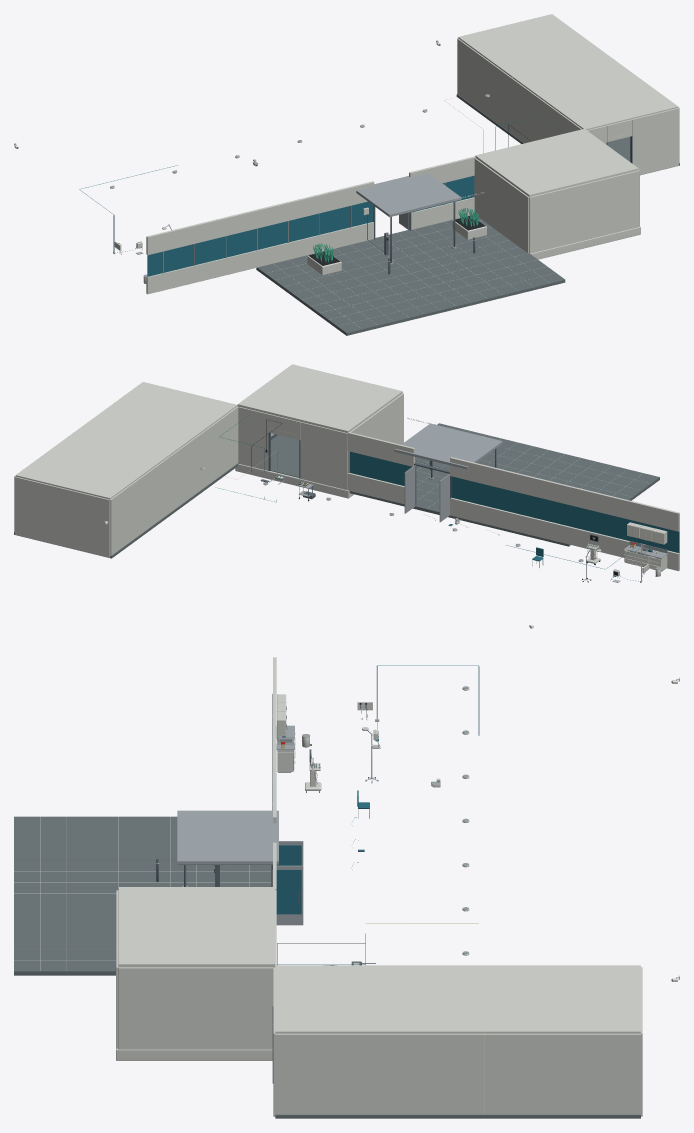
File: hospital-services.glb
3 renders of one model, top to bottom at view 1: azimuth 30°, elevation 25°; view 2: azimuth 150°, elevation 25°; view 3: azimuth 270°, elevation 25°, orthographic. The views are drawn at different scales.
Visible parts, largest first — view 1: Architecture__service-ivory, Architecture__service-floor, Ceiling__service-ivory, Architecture__service-blue, Architecture__service-metal, Exterior-context__service-ivory, Exterior-context__service-green; view 2: Architecture__service-ivory, Ceiling__service-ivory, Architecture__service-floor, Architecture__service-blue, Architecture__service-metal, Clinical-context__service-paper, Clinical-context__service-ivory, Architecture__service-steel, Clinical-context__service-metal; view 3: Architecture__service-ivory, Ceiling__service-ivory, Architecture__service-floor, Architecture__service-metal, Architecture__service-blue, Clinical-context__service-ivory.
Part boxes in pixels (left/top/right/bottom): Architecture__service-ivory: left=146, top=38, right=679, bottom=326; Architecture__service-floor: left=256, top=94, right=679, bottom=335; Ceiling__service-ivory: left=458, top=14, right=678, bottom=196; Architecture__service-blue: left=147, top=176, right=474, bottom=276; Architecture__service-metal: left=162, top=173, right=461, bottom=273; Exterior-context__service-ivory: left=307, top=218, right=486, bottom=275; Exterior-context__service-green: left=313, top=208, right=478, bottom=262; Architecture__service-ivory: left=14, top=393, right=679, bottom=571; Ceiling__service-ivory: left=15, top=364, right=402, bottom=499; Architecture__service-floor: left=14, top=423, right=659, bottom=558; Architecture__service-blue: left=349, top=451, right=679, bottom=553; Architecture__service-metal: left=394, top=423, right=502, bottom=522; Clinical-context__service-paper: left=588, top=525, right=663, bottom=582; Clinical-context__service-ivory: left=585, top=522, right=667, bottom=576; Architecture__service-steel: left=268, top=432, right=496, bottom=516; Clinical-context__service-metal: left=532, top=532, right=667, bottom=582; Architecture__service-ivory: left=14, top=657, right=642, bottom=1116; Ceiling__service-ivory: left=118, top=887, right=640, bottom=1033; Architecture__service-floor: left=14, top=816, right=640, bottom=1118; Architecture__service-metal: left=177, top=693, right=303, bottom=925; Architecture__service-blue: left=276, top=845, right=301, bottom=914; Clinical-context__service-ivory: left=277, top=694, right=377, bottom=790.
Size of the model in its own units: 34.1 by 4.04 by 25.5.
